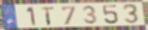1: (26, 6, 38, 27)
3: (82, 5, 100, 26), (123, 3, 140, 25)
5: (101, 4, 120, 25)
7: (60, 5, 77, 26)
T: (40, 6, 55, 26)
